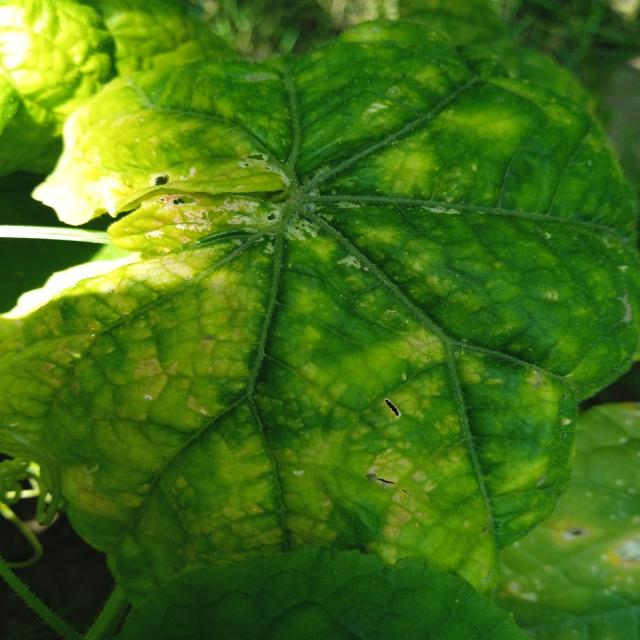cucumber_anthracnose: (58, 49, 500, 522)
